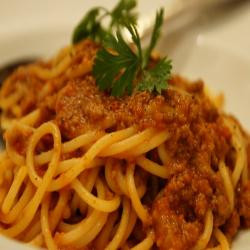bolonese_pasta: (1, 40, 245, 249)
